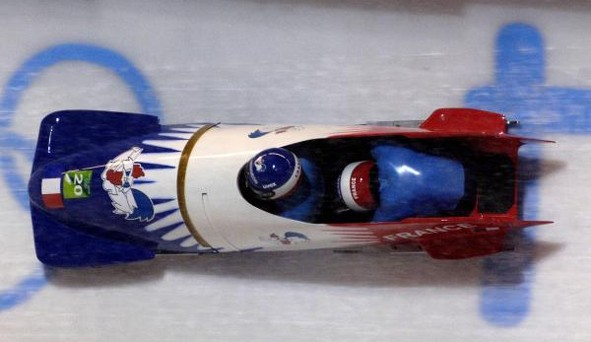Bobsleigh: (28, 108, 551, 266)
